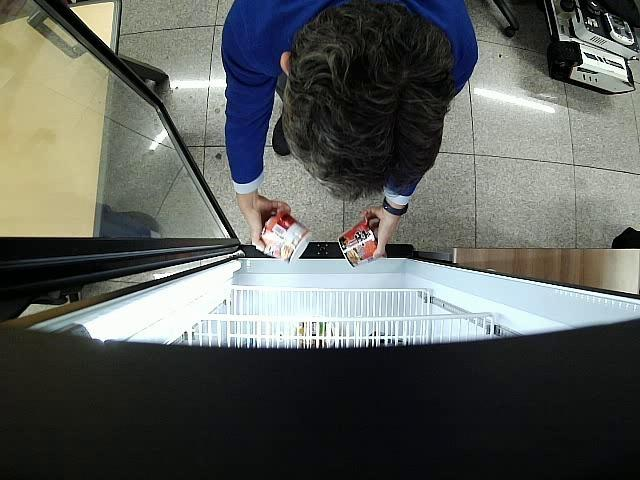01_ShinRamen_L: (262, 210, 310, 263), (338, 221, 378, 268)
